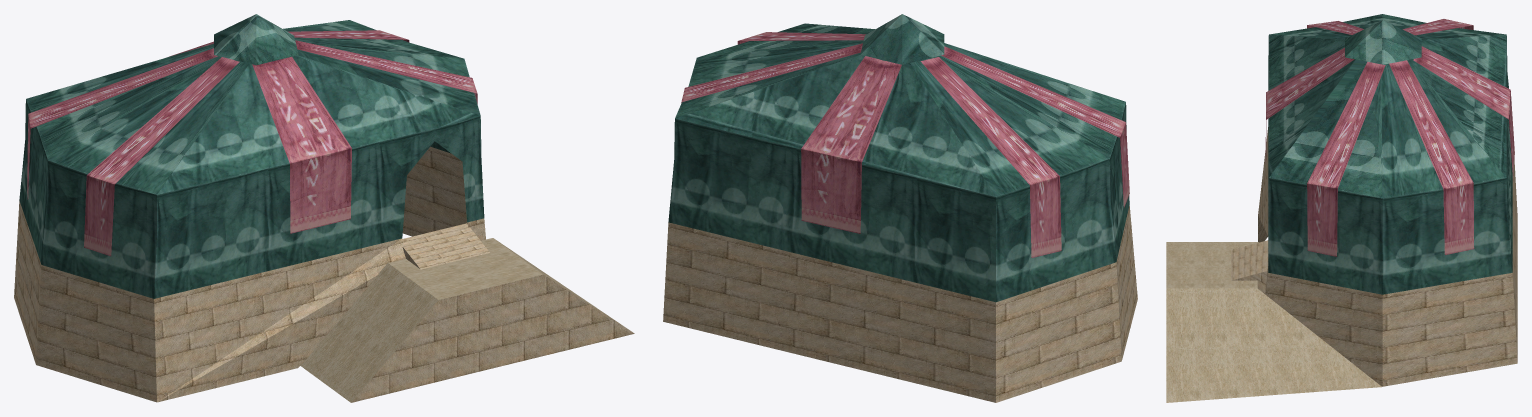
Rendered from ply_nboo_idesigner_tent_s01_r0_mesh_l2.fbx.
3 renders of one model, left to right at view 1: azimuth 30°, elevation 25°; view 2: azimuth 150°, elevation 25°; view 3: azimuth 270°, elevation 25°, orthographic. The views are drawn at different scales.
Visible parts, largest first — view 1: mesh_node; view 2: mesh_node; view 3: mesh_node.
Boxes of the visible parts, x1,y1,x2,y2 form: mesh_node: (14,14,634,402); mesh_node: (663,14,1137,402); mesh_node: (1166,14,1517,402).
Bounding box in the file's own units: 17.22 × 10.19 × 12.03.
